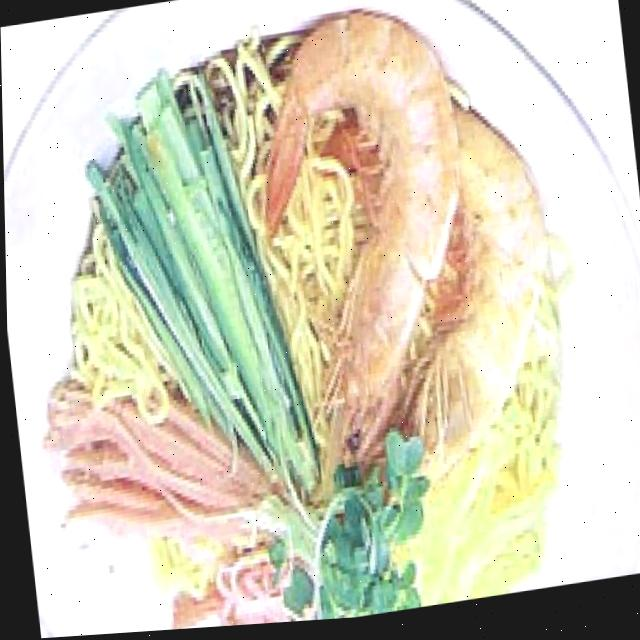面条主食: (0, 0, 605, 640)
